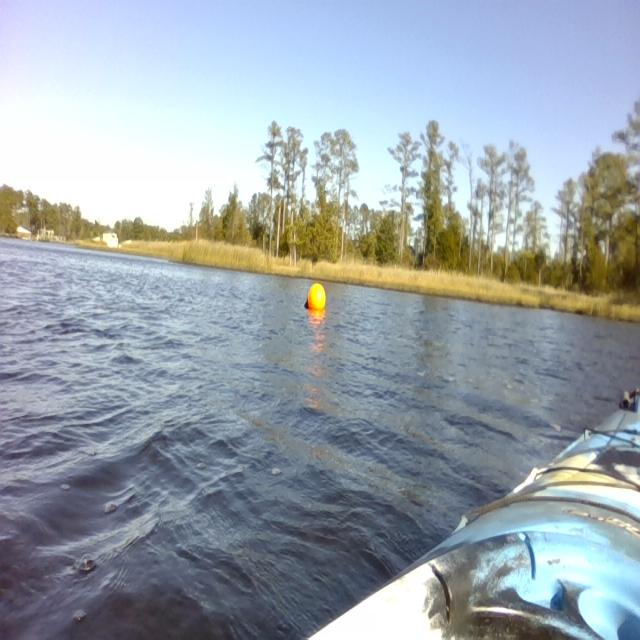Buoy: (298, 281, 332, 319)
